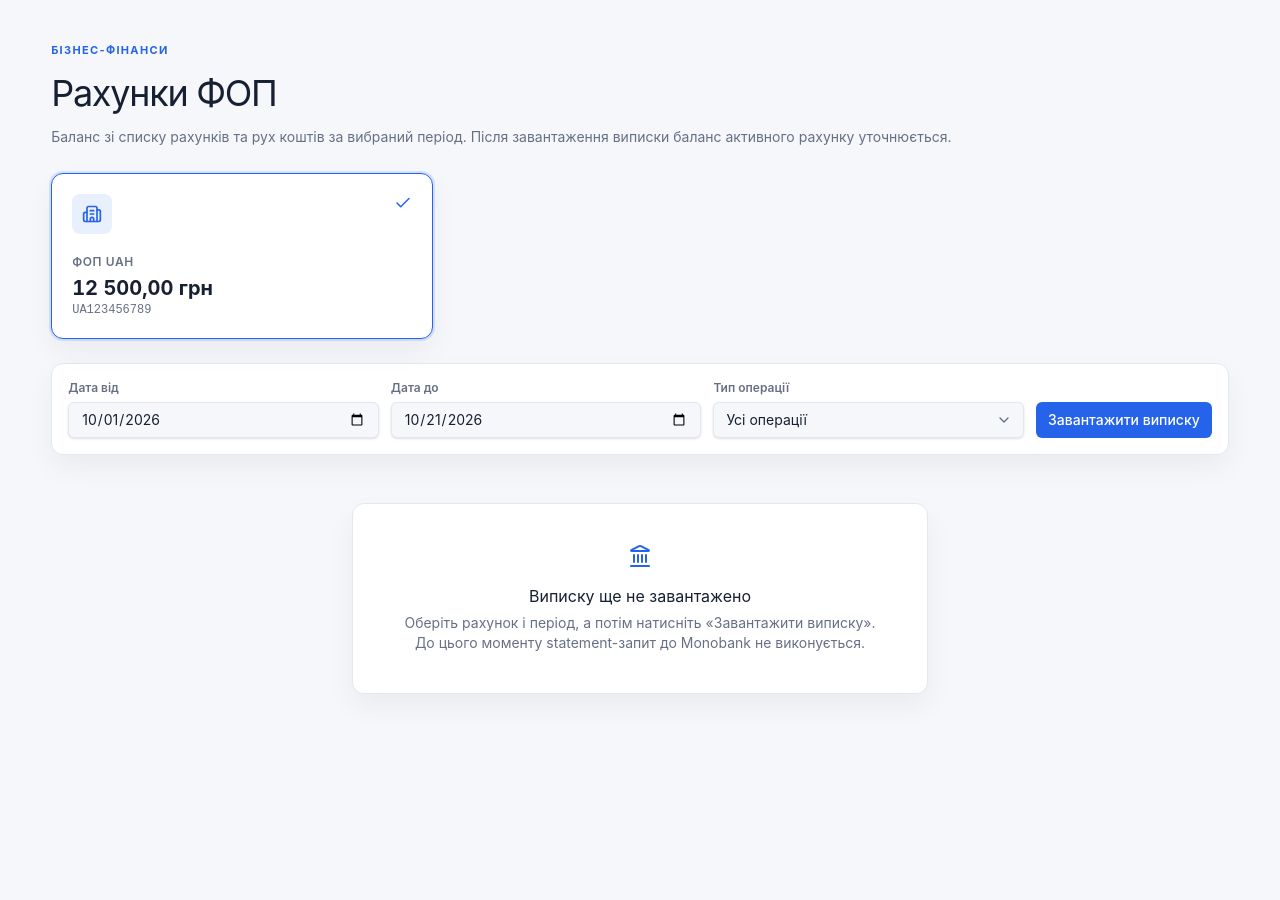
Test: AccountsPage › shows the Monobank wait notice after an explicit statement request
Expected: the heading "Виписку ще не завантажено" is shown, top-left (529, 586), bottom-right (751, 606)
Click the button "Завантажити виписку". click: (1124, 420)
box: top-left (1036, 402), bottom-right (1212, 438)
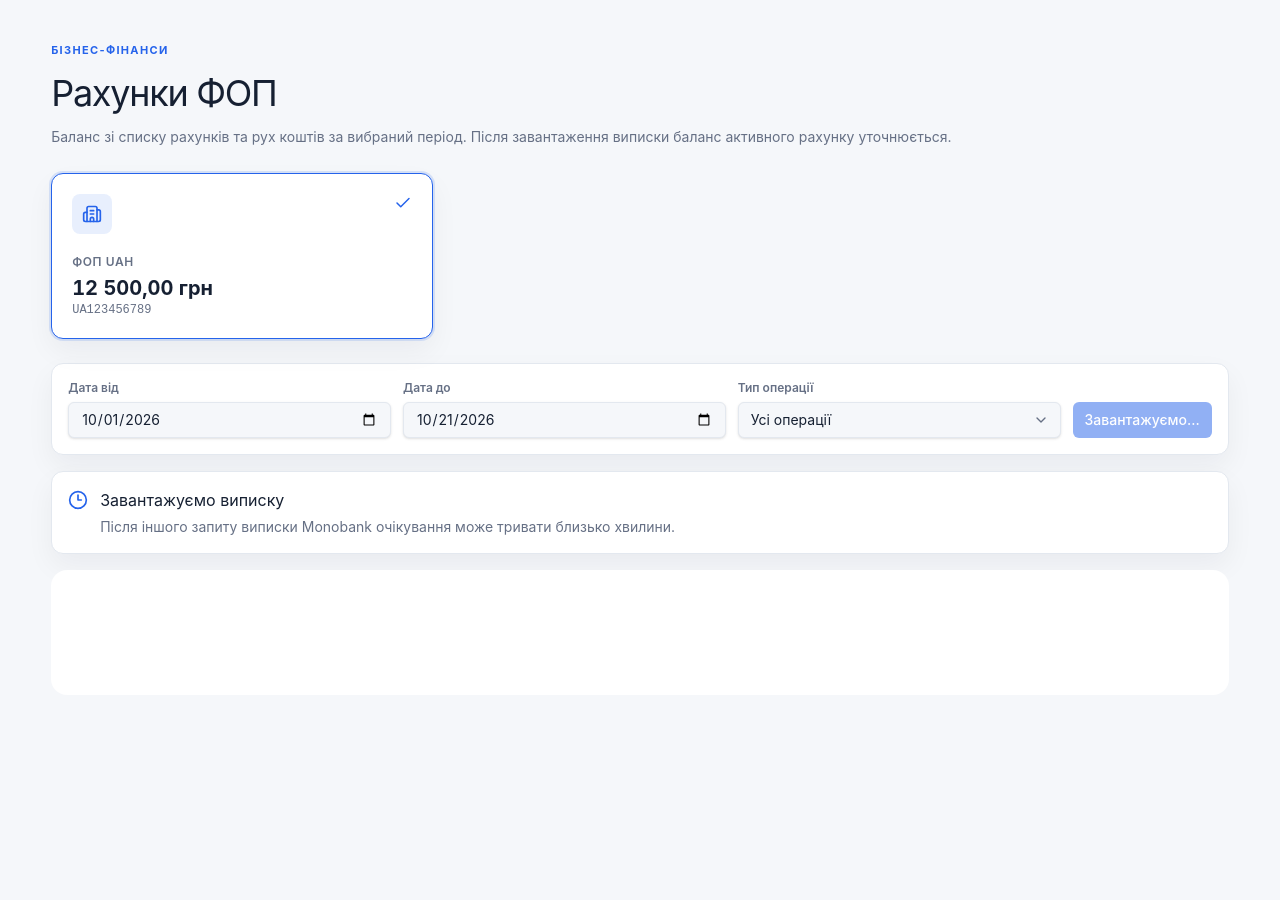
Result: the heading "Завантажуємо виписку" is shown at top-left (100, 490), bottom-right (284, 510)
Result: the text "очікування може тривати близько хвилини" is shown at top-left (100, 518), bottom-right (675, 534)
